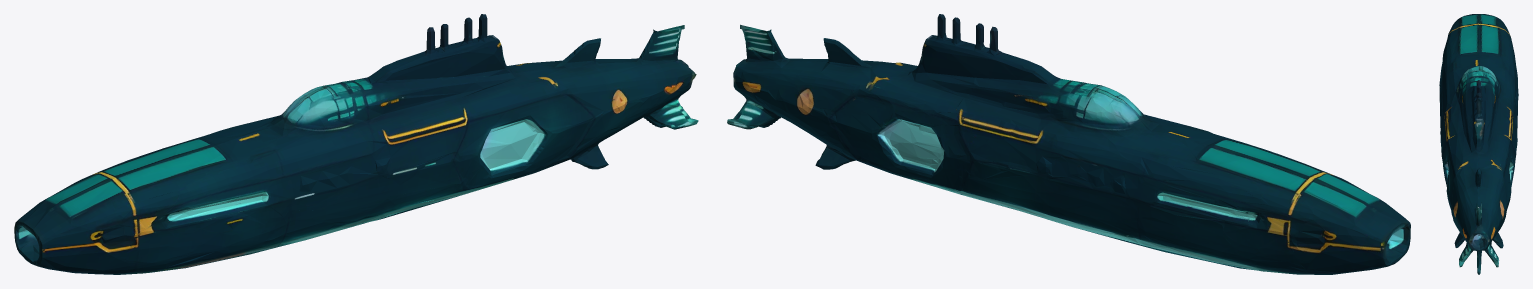
File: veh-ocean-submarine.glb
3 views of the same model, side by side, from view 1: azimuth 30°, elevation 25°; view 2: azimuth 150°, elevation 25°; view 3: azimuth 270°, elevation 25° (orthographic). The views are drawn at different scales.
Parts seen in each view (by area): view 1: material; view 2: material; view 3: material.
Boxes of the visible parts, x1,y1,x2,y2 form: material: (14,14,698,274); material: (727,14,1410,274); material: (1439,14,1518,274).
Bounding box in the file's own units: 1.18 × 0.295 × 0.177.
1 material, 1 textured.
